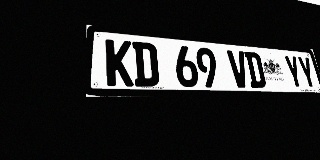6: (174, 45, 199, 87)
9: (195, 47, 220, 87)
D: (132, 41, 159, 87), (244, 51, 267, 88)
K: (106, 39, 134, 86)
V: (227, 50, 250, 88)
Y: (283, 55, 305, 88), (297, 56, 318, 89)
